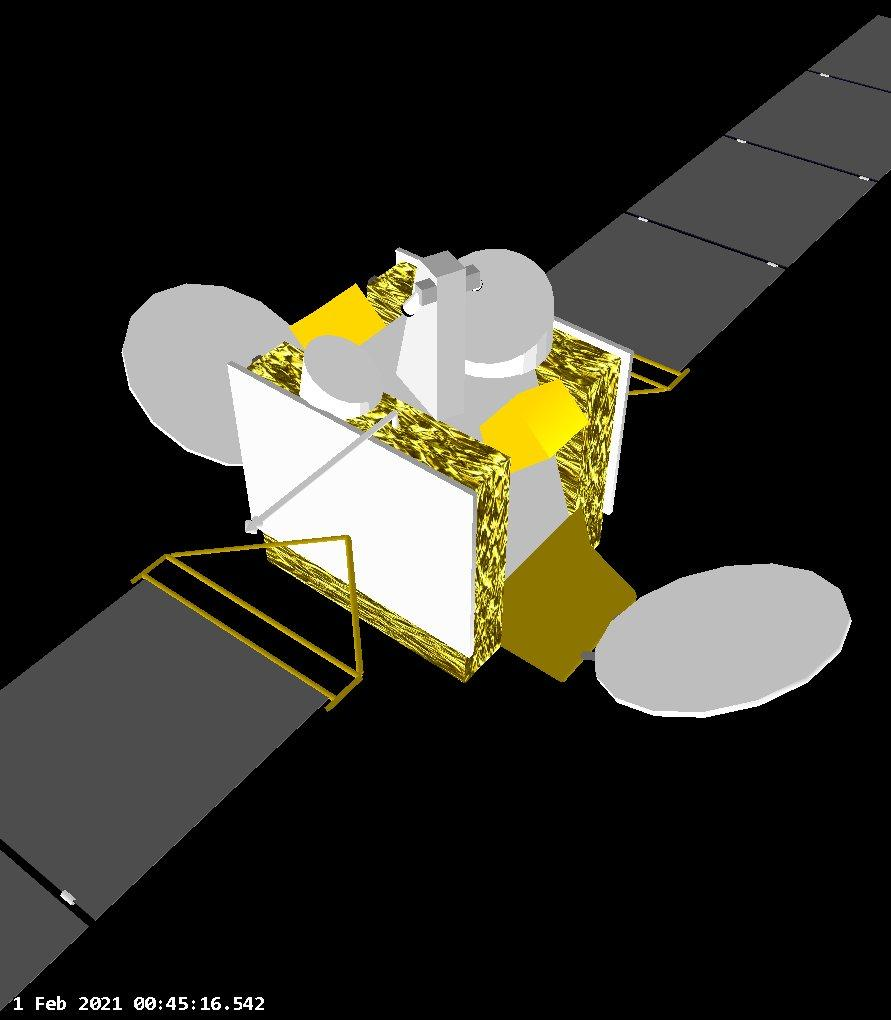antenna: (587, 553, 857, 723), (116, 273, 322, 477), (236, 391, 412, 541), (440, 243, 558, 366), (300, 333, 387, 406)
body: (218, 239, 634, 688)
solar: (0, 522, 369, 1020), (522, 9, 891, 409)
